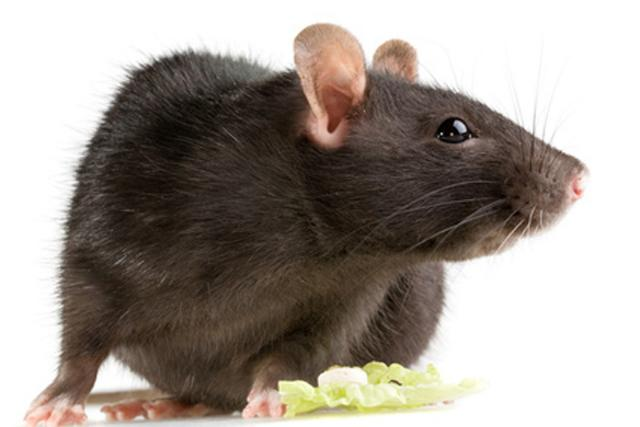rat: (12, 14, 594, 426)
